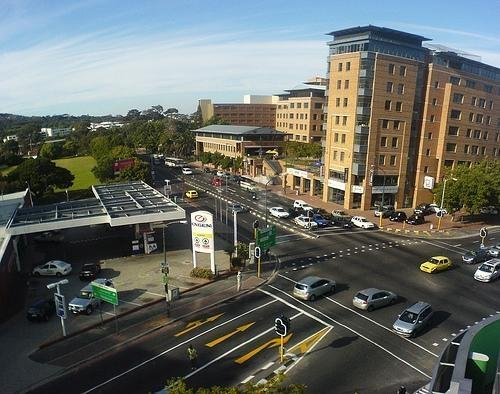bus: (164, 156, 184, 168)
car: (391, 300, 434, 339), (293, 276, 337, 302), (353, 288, 397, 312), (420, 255, 454, 274), (474, 258, 500, 282), (460, 248, 488, 266), (78, 260, 103, 280), (350, 216, 376, 228), (294, 216, 317, 229), (268, 206, 290, 219), (389, 211, 407, 222), (406, 213, 424, 224), (314, 213, 328, 225)
